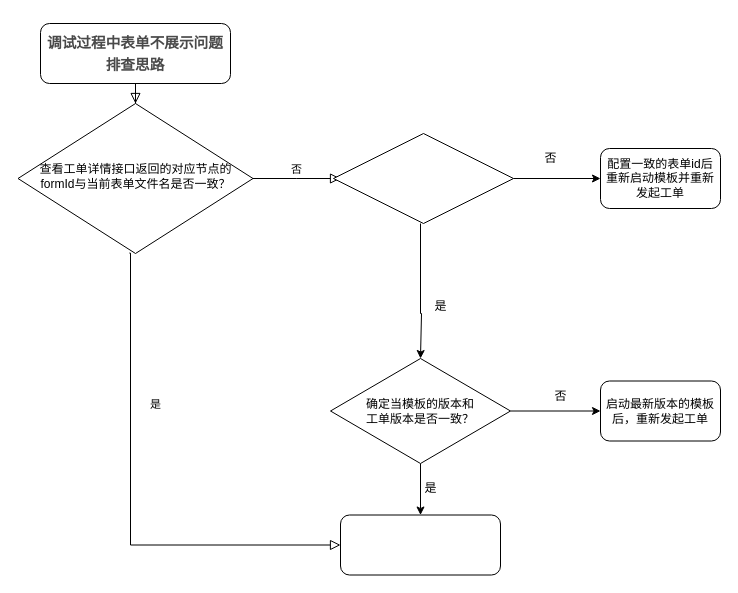
Image size: 738x593. Some labels were removed from this diagram. Here are the shapes that lost their labels. From the top down, the centre of each, then its label:
point (423, 178): 去查看工单模板配置 中的节点表单Id 是否一致？
point (420, 544): 说明表单已经正常加载，出现空白表单的原因有可能是当前表单报错了，请自行排查
